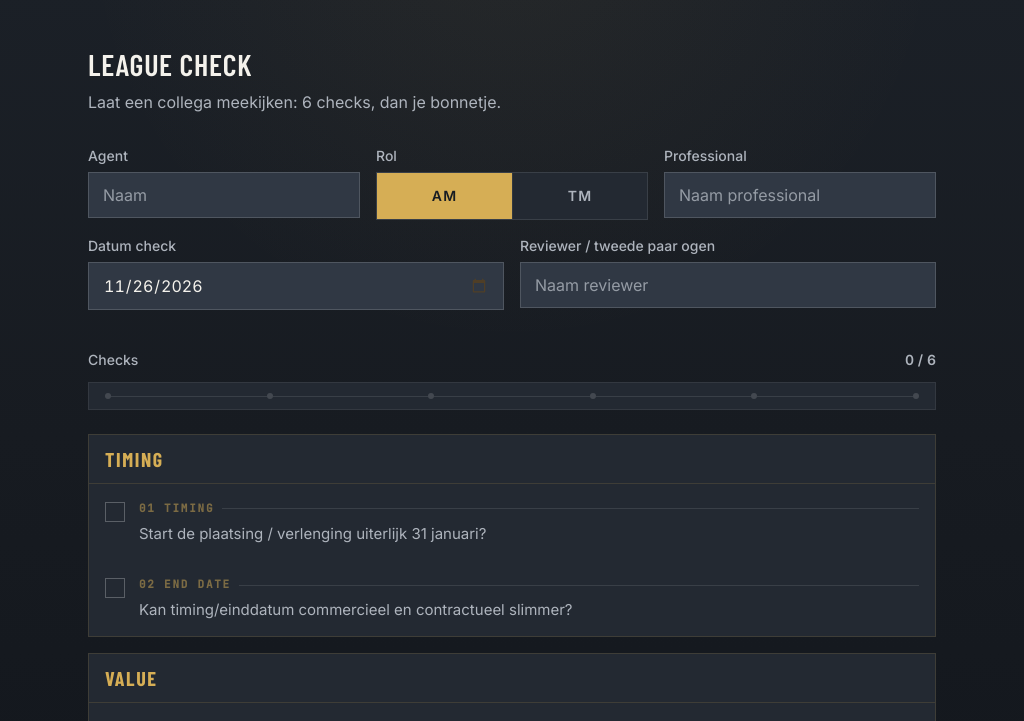
Test case: LeagueCheckPage — the receipt button is never gated on checked count › 3/6: GENERATE RECEIPT is enabled and clickable, receipt shows MISSION OPEN 3/6 with 3 open checks
Type "Bernard" into the field labelled "Agent" at (224, 195), box [88,172,360,218]
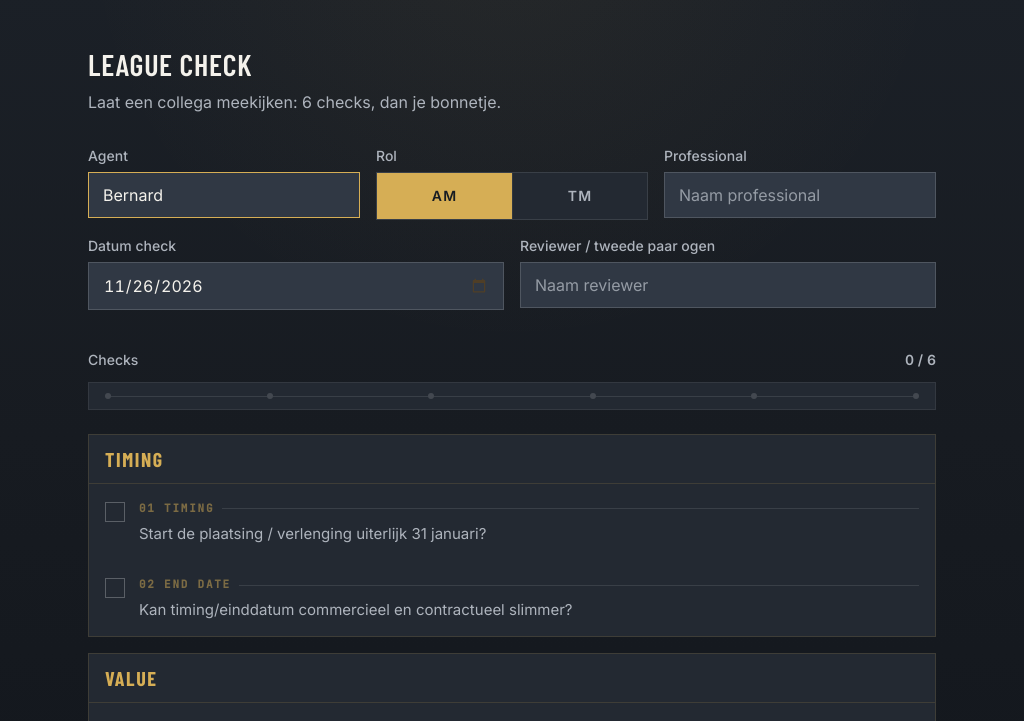
Type "Tim Jansen" into the field labelled "Professional" at (800, 195), box [664,172,936,218]
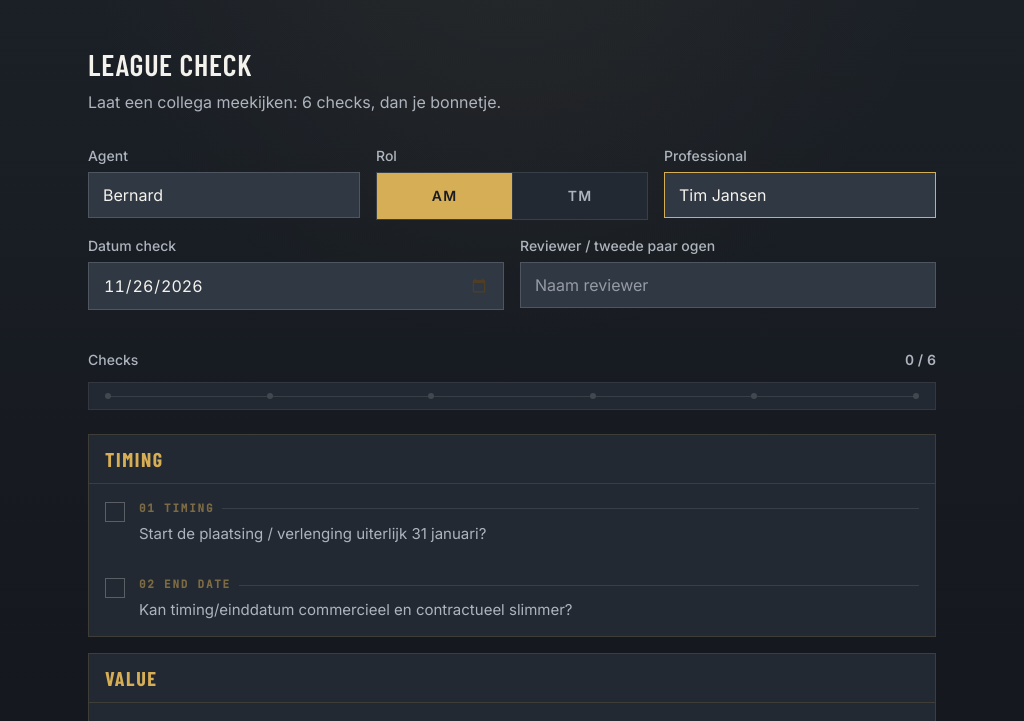
Click the checkbox with id "timing" at (296, 522), box [105,501,486,543]
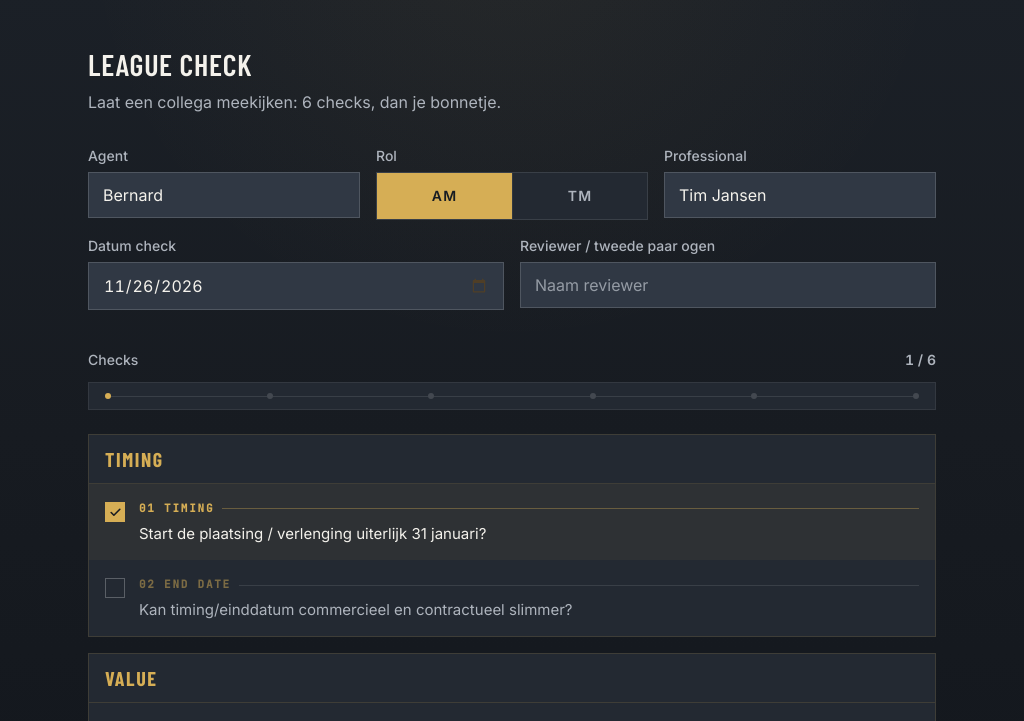
Click the checkbox with id "end-date" at (339, 598), box [105,577,572,619]
(page scrolled)
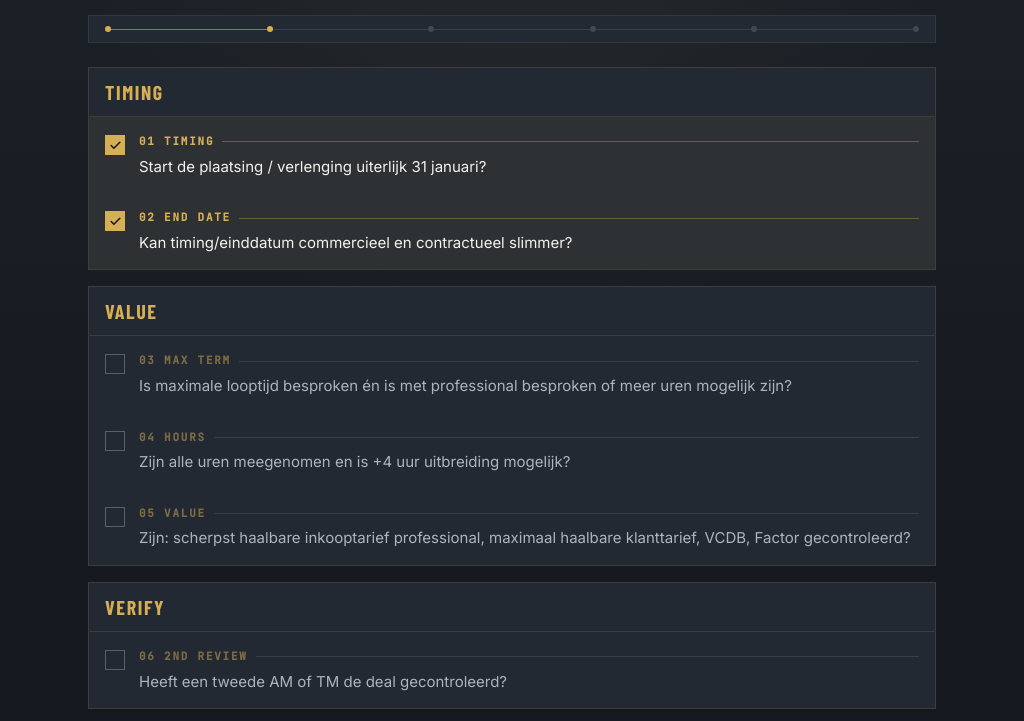
Click the checkbox with id "max-term" at (448, 374), box [105,353,792,395]
(page scrolled)
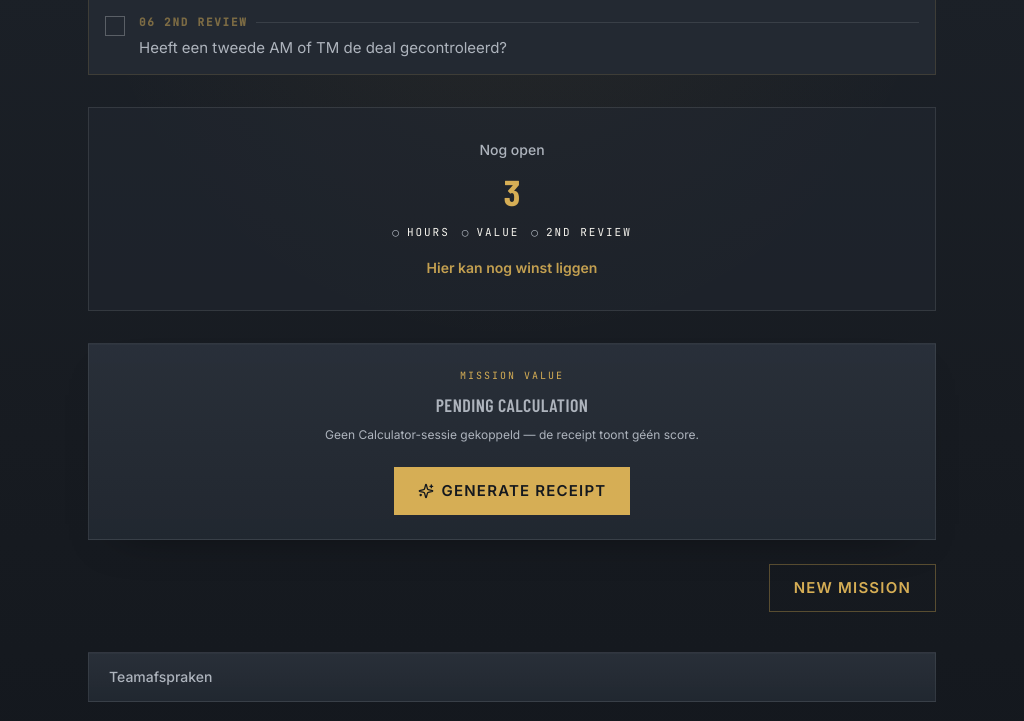
Click the button "Generate Receipt" at (512, 491), box [394,467,630,515]
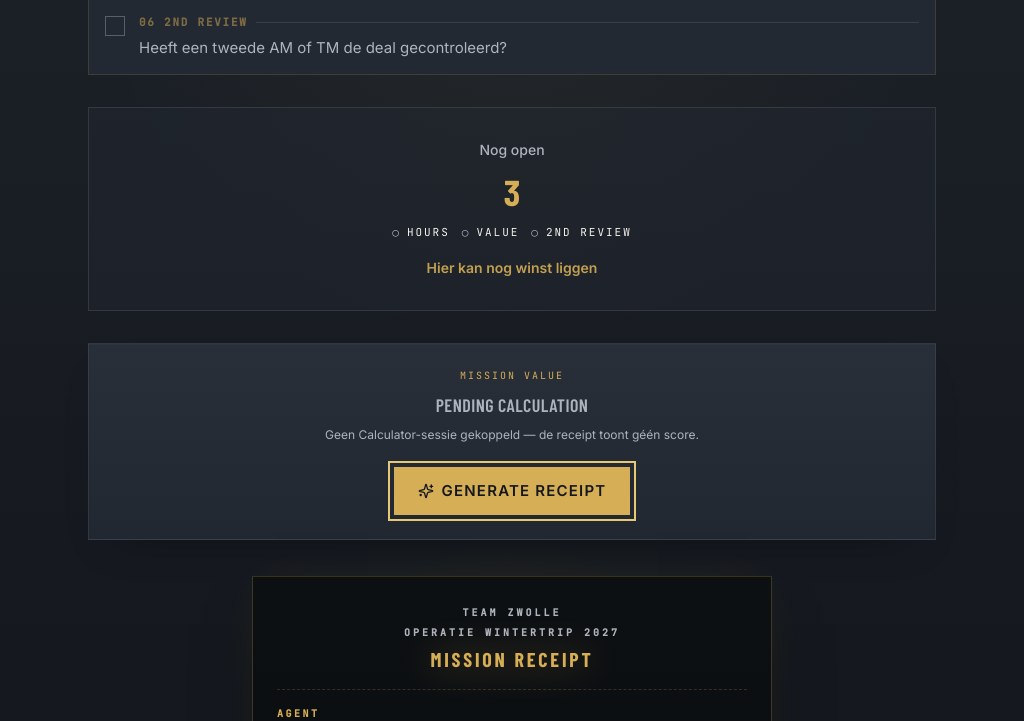
Expected: the text "HOURS" is shown, [407,225,450,239]
Expected: the text "Mission Receipt" is shown, [430,647,594,671]
